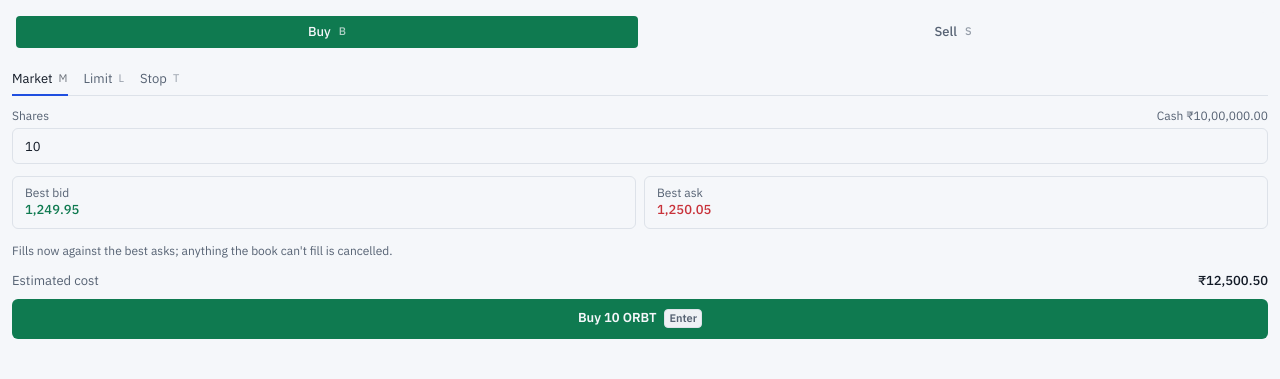
Test case: OrderTicket › when the outcome is unknown › treats a refusal as settled: the message is the server's, the next attempt is new
The width and height of the screenshot is (1280, 379).
Later steps or results of the test are not shown.
Click the button "Buy 10 ORBT Enter": (640, 319) [12, 299, 1268, 339]
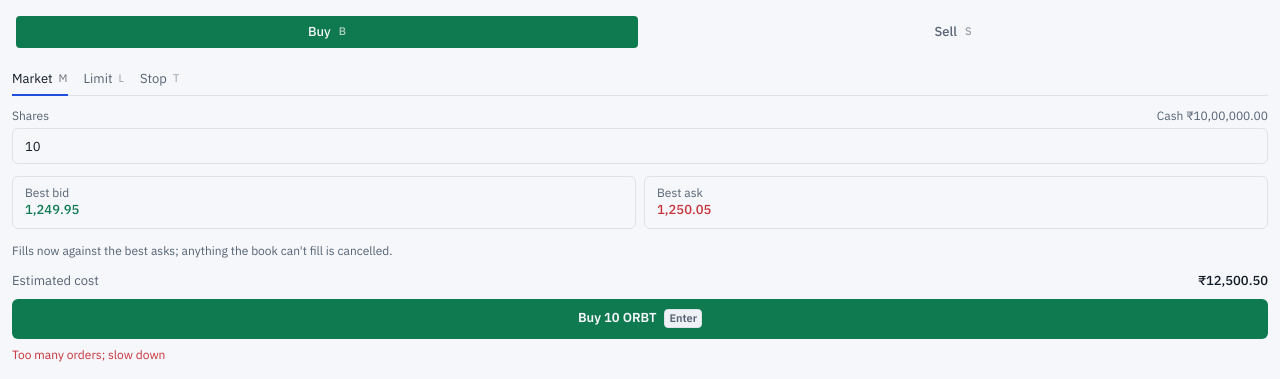
expect the text "Too many orders; slow down" is shown: met, box [12, 347, 165, 362]
